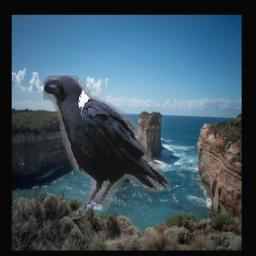Crow: (43, 76, 171, 221)
